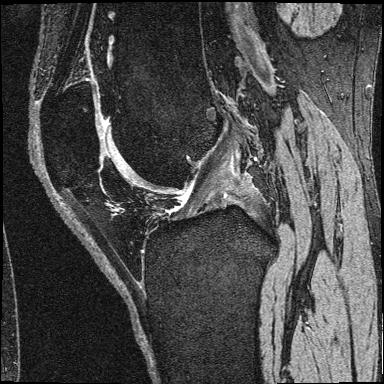SagKneeJointArea: (40, 81, 281, 299)
